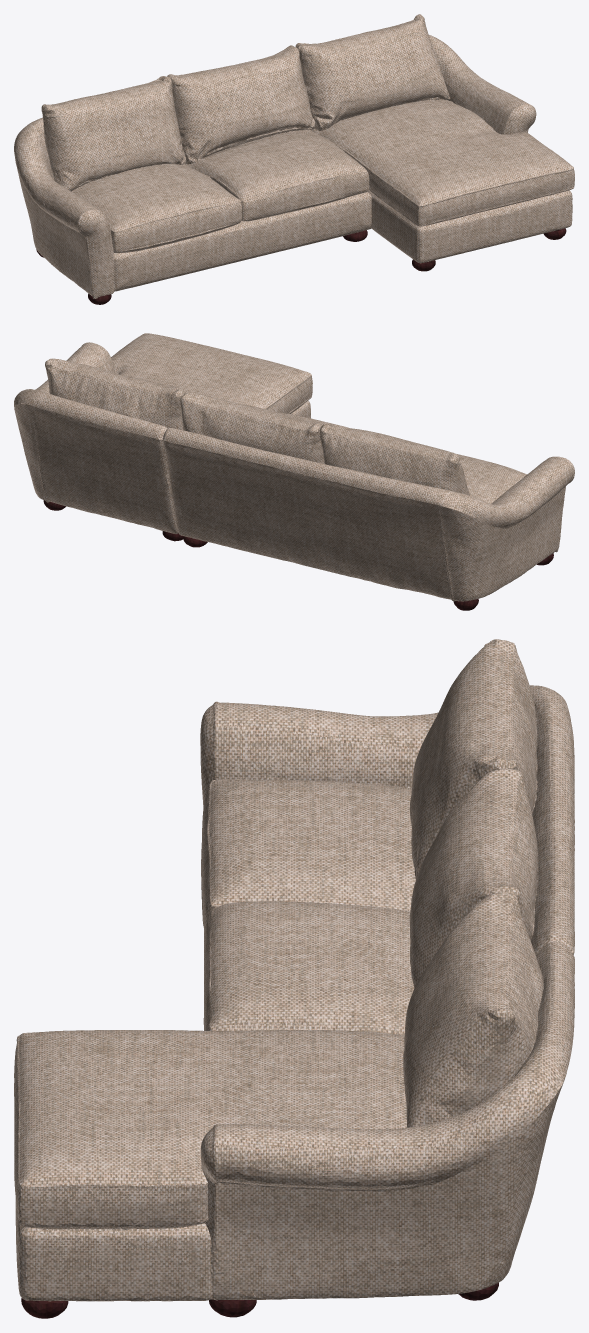
The model's file is bryanstonchaisesofa.glb.
3 renders of one model, top to bottom at view 1: azimuth 30°, elevation 25°; view 2: azimuth 150°, elevation 25°; view 3: azimuth 270°, elevation 25°, orthographic. The views are drawn at different scales.
Visible parts, largest first — view 1: world.005; view 2: world.005; view 3: world.005.
Boxes of the visible parts, x1,y1,x2,y2 form: world.005: (14, 14, 574, 304); world.005: (14, 333, 574, 610); world.005: (14, 639, 574, 1318).
Bounding box in the file's own units: 0.9967 × 0.3007 × 0.5281.
Materials: 2 (2 with a texture image).
